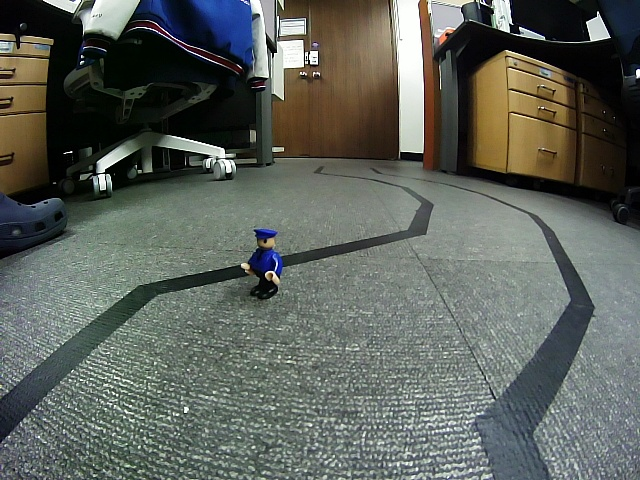person: (239, 226, 283, 300)
